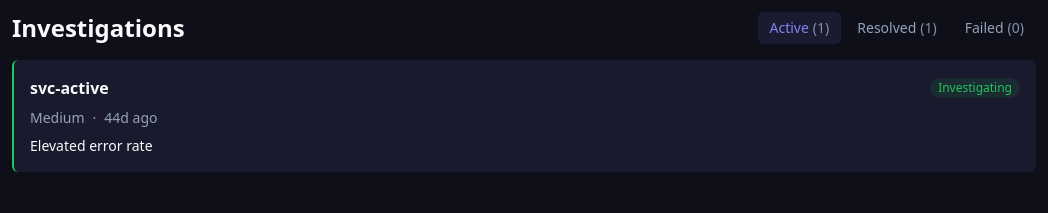
Test: InvestigationListPage — status-group filter + Pending distinctness (FR22) › switching to the "Resolved" group filters to completed investigations only
Expected: the link with aria-label "svc-active investigation" is shown, [12,60,1036,172]
Click the tab "Resolved(1)": (897, 28) [845,12,949,44]
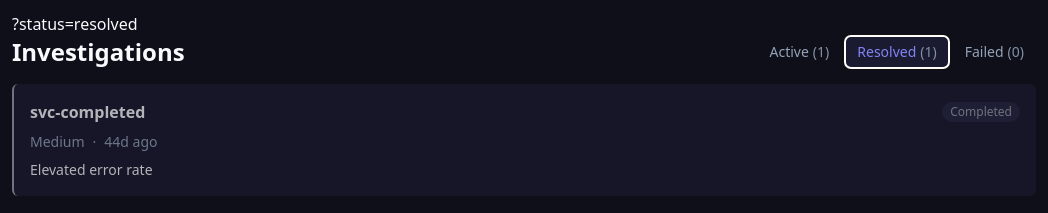
Now the link with aria-label "svc-completed investigation" is shown, box [12,84,1036,196]
